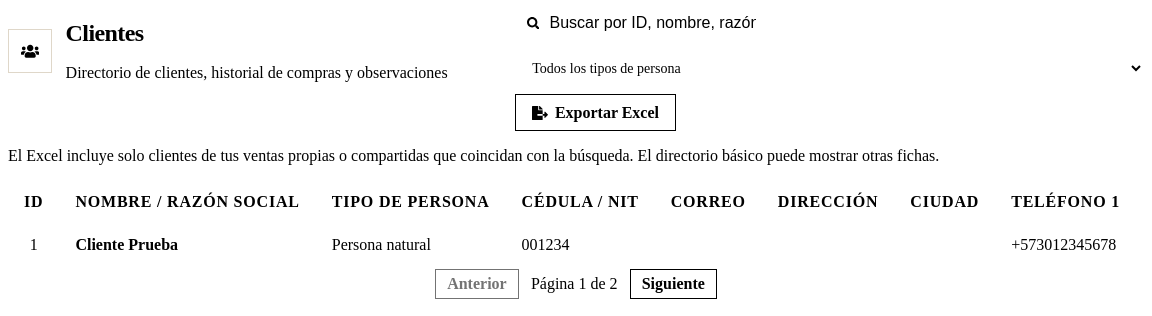
Test: Clientes: descarga y alcance › explica el alcance comercial y exporta en el servidor sin recorrer páginas en el navegador
expect the text "El Excel incluye solo clientes de tus ventas propias o compartidas" is shown: met, box [8, 147, 939, 164]
Click the button "Exportar Excel".
click(595, 113)  # box [515, 94, 676, 131]
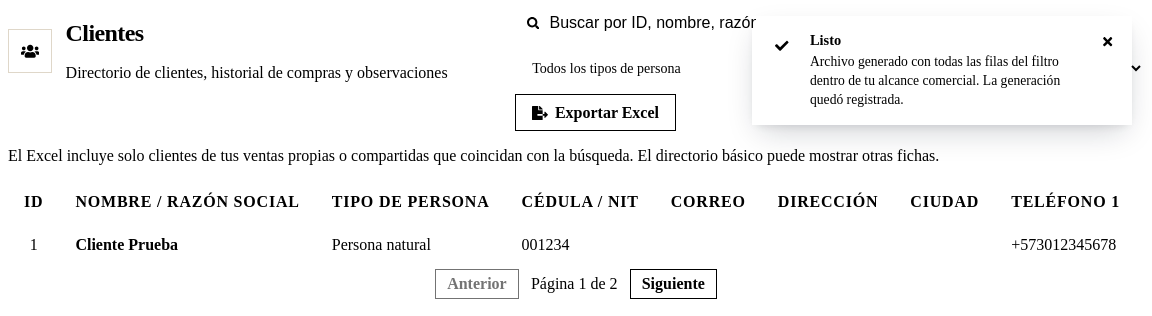
expect the text "La generación quedó registrada" is shown: met, box [810, 54, 1060, 107]
